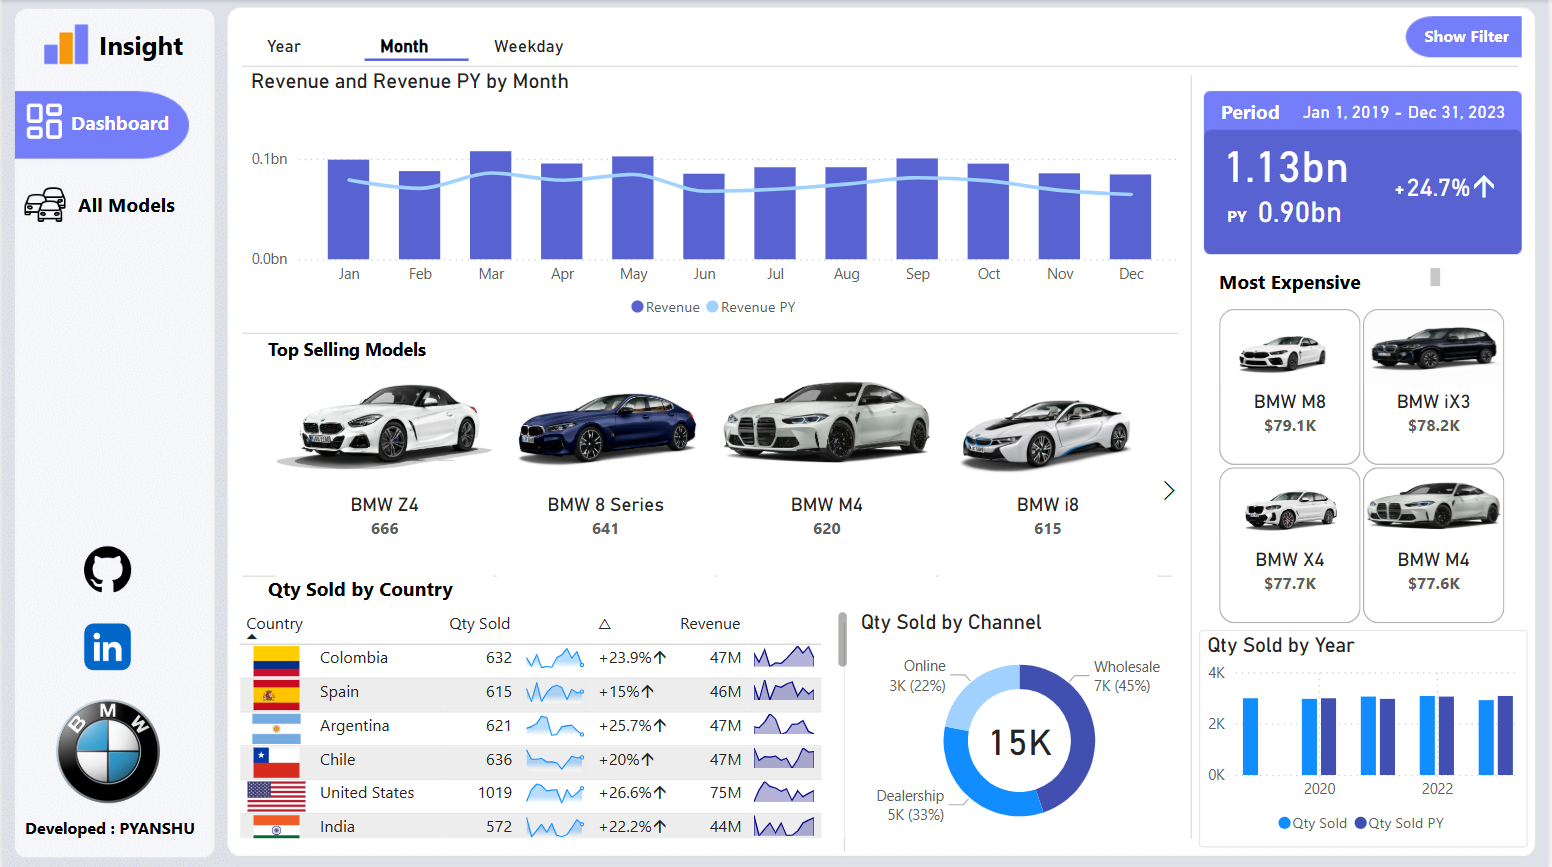

What the dashboard file says about the page in this screenshot:
{"tool":"powerbi","page":{"name":"Dashboard","canvas":[1280,720],"ordinal":0},"visuals":[{"type":"lineClusteredColumnComboChart","fields":{"Category":["Calendar.Month"],"Y":["New Measure.Revenue"],"Y2":["New Measure.Revenue PY"]},"box":[201.3,56.7,779.5,215.4],"z":0},{"type":"advancedSlicerVisual","fields":{"Values":["PeriodSlicer.PeriodSlicer"]},"box":[201.3,12.8,286.3,43.9],"z":1000},{"type":"card","fields":{"Values":["New Measure.Revenue"]},"box":[1002,99.2,120.5,70.9],"z":2000},{"type":"card","fields":{"Values":["New Measure.Revenue PY"]},"box":[1013.4,138.9,120.5,70.9],"z":3000},{"type":"textbox","box":[1009.1,164.4,48.2,35.4],"z":4000},{"type":"card","fields":{"Values":["New Measure.Revenue Variance % Arrow"]},"box":[1133.9,119.1,120.5,70.9],"z":5000},{"type":"card","fields":{"Values":["New Measure.Selected Period"]},"box":[1057.3,58.1,205.5,70.9],"z":6000},{"type":"advancedSlicerVisual","fields":{"Values":["dimModel.Model"]},"box":[201.4,290,780,231.4],"z":7000},{"type":"textbox","box":[1003.5,76.5,109.1,35.4],"z":8000},{"type":"textbox","box":[215.4,273.5,157.3,34],"z":9000},{"type":"advancedSlicerVisual","fields":{"Values":["dimModel.Model"]},"box":[982.2,250.9,287.7,270.7],"z":10000},{"type":"textbox","box":[1002,216.9,192.8,34],"z":11000},{"type":"clusteredColumnChart","title":"Qty Sold by Year","fields":{"Y":["New Measure.Qty Sold","New Measure.Qty Sold PY"],"Category":["Calendar.Year"]},"box":[990.7,521.6,272.1,180],"z":12000},{"type":"donutChart","fields":{"Y":["New Measure.Qty Sold"],"Category":["dimChannel.Channel"]},"box":[705.8,504.6,272.1,197],"z":13000},{"type":"card","fields":{"Values":["New Measure.Qty Sold"]},"box":[805,583.9,73.7,55.3],"z":14000},{"type":"tableEx","fields":{"Values":["dimCountry.Flag","dimCountry.Country","New Measure.Qty Sold","New Measure.Qty Sold Sparkline","New Measure.Qty Sold Variance % Arrow","New Measure.Revenue","New Measure.Revenue Sparkline"]},"box":[191.3,500.3,514.5,198.4],"z":15000},{"type":"textbox","box":[215.4,470.6,192.8,34],"z":16000},{"type":"textbox","box":[52.4,85,154.5,42.5],"z":17000},{"type":"image","box":[11.3,78,46.8,45.4],"z":18000},{"type":"textbox","box":[58.1,153.1,154.5,42.5],"z":19000},{"type":"image","box":[11.3,147.4,48.2,43.9],"z":20000},{"type":"actionButton","box":[0,147.4,168.7,39.7],"z":21000},{"type":"actionButton","box":[1162.2,9.9,100.6,39.7],"z":23000},{"type":"image","box":[39.7,572.6,96.4,97.8],"z":24000},{"type":"textbox","box":[75.1,17,154.5,42.5],"z":25000},{"type":"image","box":[28.3,9.9,49.6,49.6],"z":26000},{"type":"image","box":[49,504.5,77.4,60.6],"z":27000},{"type":"image","box":[63.2,438.7,49,65.8],"z":28000},{"type":"textbox","box":[14.2,671,193.5,42.6],"z":29000}]}

Visuals, with their boxes in screenshot pixels (x1, y1, x2, y2), scaled from the page's 1280x720 canvas onto the 1552x867 screenshot:
lineClusteredColumnComboChart - Calendar.Month x New Measure.Revenue: 244 68 1189 328
advancedSlicerVisual - PeriodSlicer.PeriodSlicer: 244 15 591 68
card - New Measure.Revenue: 1215 119 1361 205
card - New Measure.Revenue PY: 1229 167 1375 253
textbox: 1224 198 1282 241
card - New Measure.Revenue Variance % Arrow: 1375 143 1521 229
card - New Measure.Selected Period: 1282 70 1531 155
advancedSlicerVisual - dimModel.Model: 244 349 1190 628
textbox: 1217 92 1349 135
textbox: 261 329 452 370
advancedSlicerVisual - dimModel.Model: 1191 302 1540 628
textbox: 1215 261 1449 302
"Qty Sold by Year" clusteredColumnChart: 1201 628 1531 845
donutChart - New Measure.Qty Sold x dimChannel.Channel: 856 608 1186 845
card - New Measure.Qty Sold: 976 703 1065 770
tableEx - dimCountry.Flag x dimCountry.Country: 232 602 856 841
textbox: 261 567 495 608
textbox: 64 102 251 154
image: 14 94 70 149
textbox: 70 184 258 236
image: 14 177 72 230
actionButton: 0 177 205 225
actionButton: 1409 12 1531 60
image: 48 690 165 807
textbox: 91 20 278 72
image: 34 12 94 72
image: 59 608 153 680
image: 77 528 136 608
textbox: 17 808 252 859
